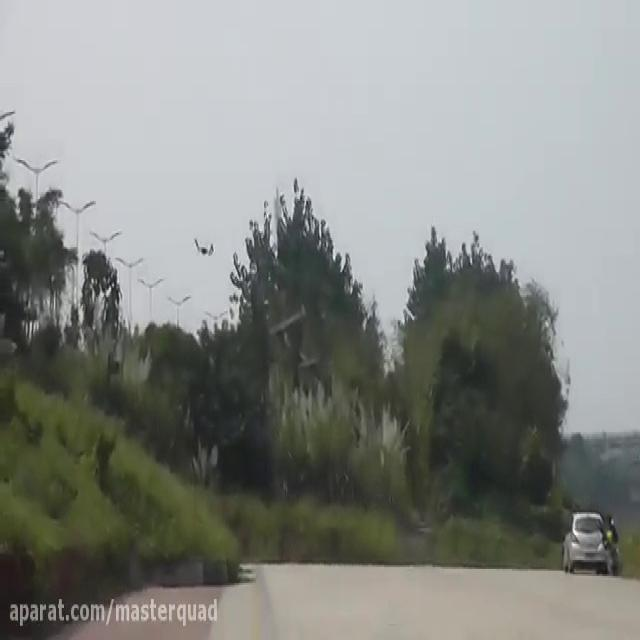drone: (191, 231, 216, 260)
